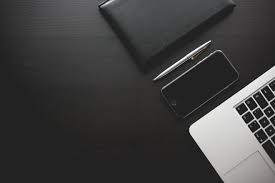mobil: (159, 49, 241, 120)
